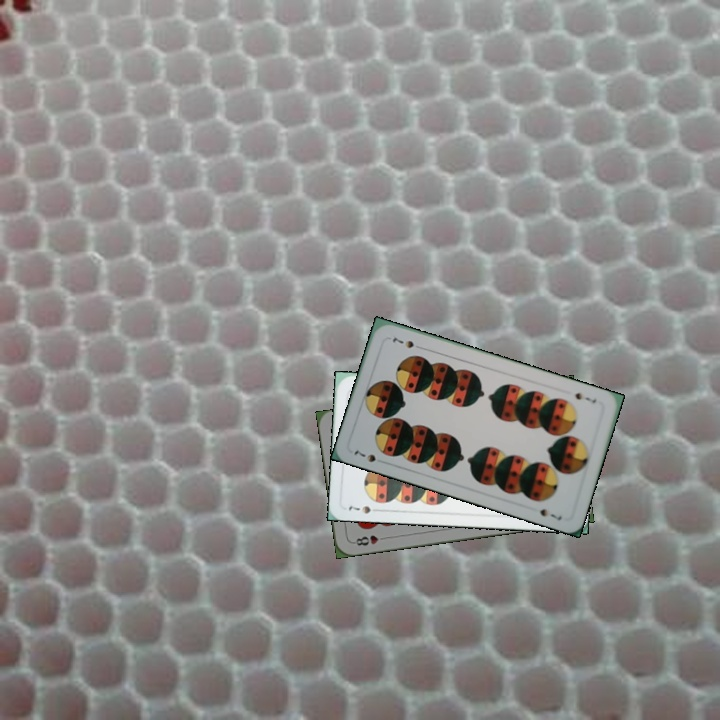H8: (349, 531, 389, 548)
S7: (344, 502, 384, 516), (350, 446, 379, 465), (571, 388, 599, 406)
